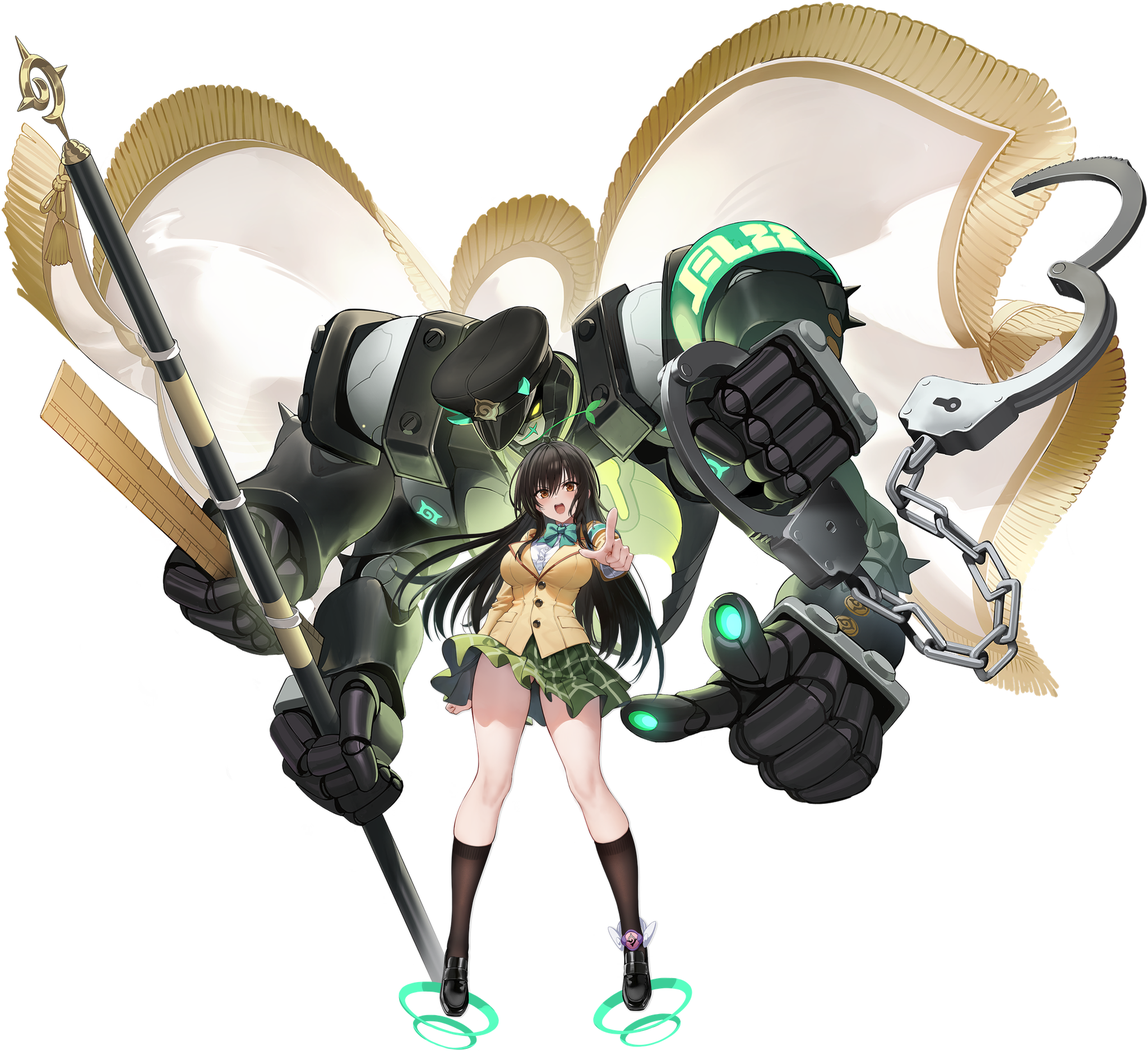person: (397, 412, 703, 1050)
